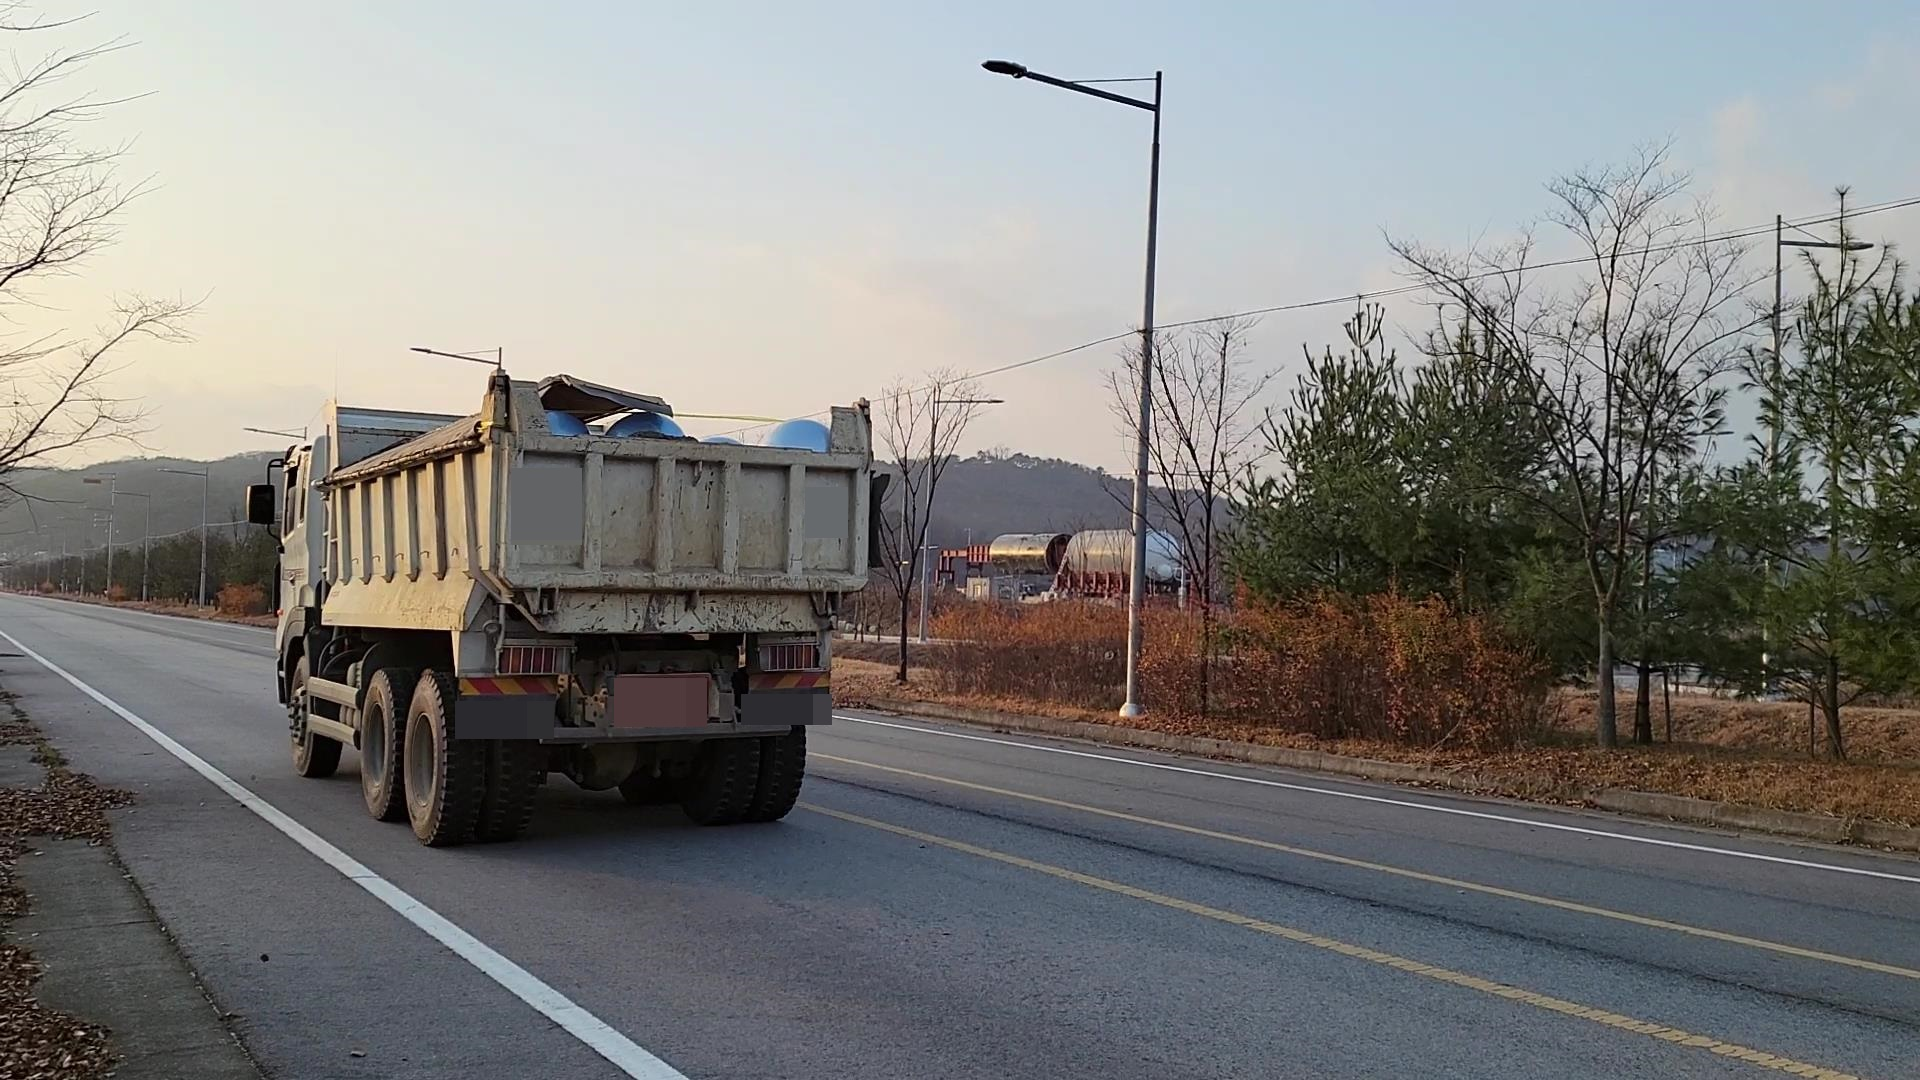불법차량: (245, 365, 890, 849)
